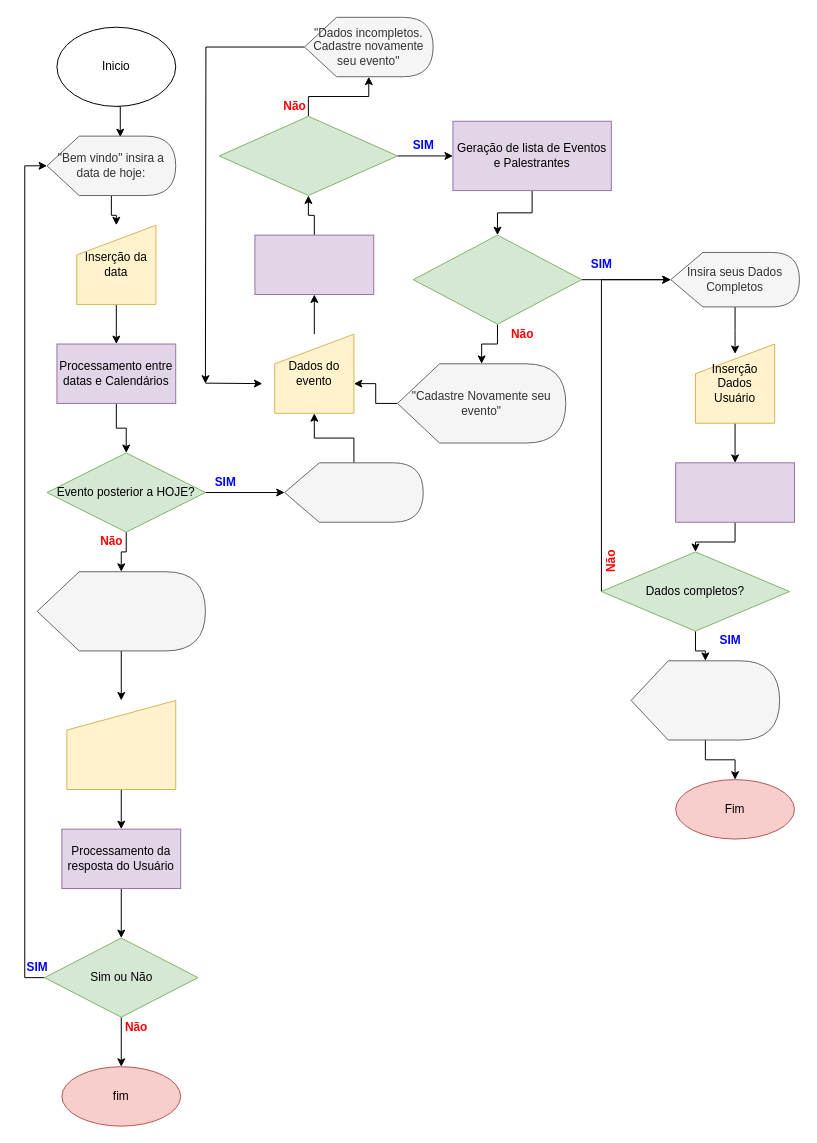
This 817x1143 diagram has some shape labels left out. The shapes that lost their labels are listed below. From the top down, each one's box as (x1, y1, x2, y2) in pixels, then its label:
(218, 115, 397, 196): Dados Completos
(254, 234, 374, 295): Campos digitáveis Completos
(412, 234, 582, 324): Seu evento Consta na lista?
(284, 462, 423, 522): "Cadastre seu Evento"
(675, 462, 794, 522): Processamento dados
(36, 571, 205, 651): "Não é possível cadastrar nesta data. Deseja um novo cadastro?"
(630, 660, 780, 740): "Cadastro realizado com Sucesso"
(66, 699, 176, 790): resposta do usuário
